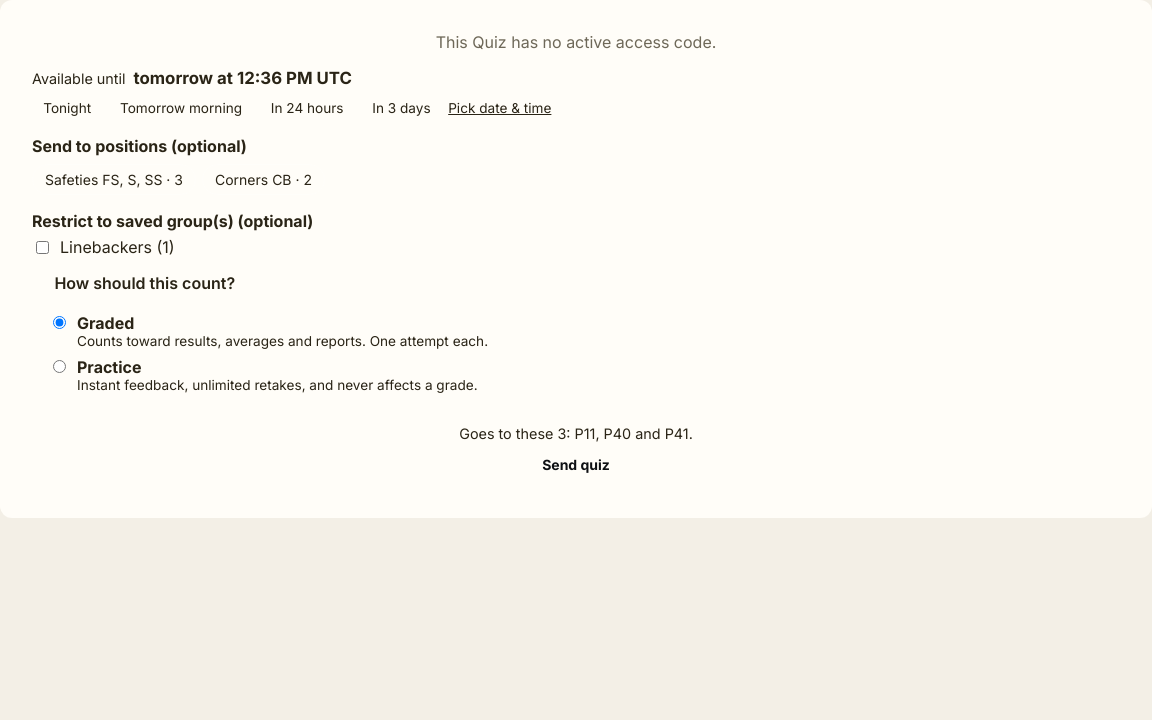
Test: Send - to positions › says plainly when the quiz roster already has players - the code reaches them too
Click the button "Safeties FS, S, SS · 3" at (114, 180), box [32,164,196,195]
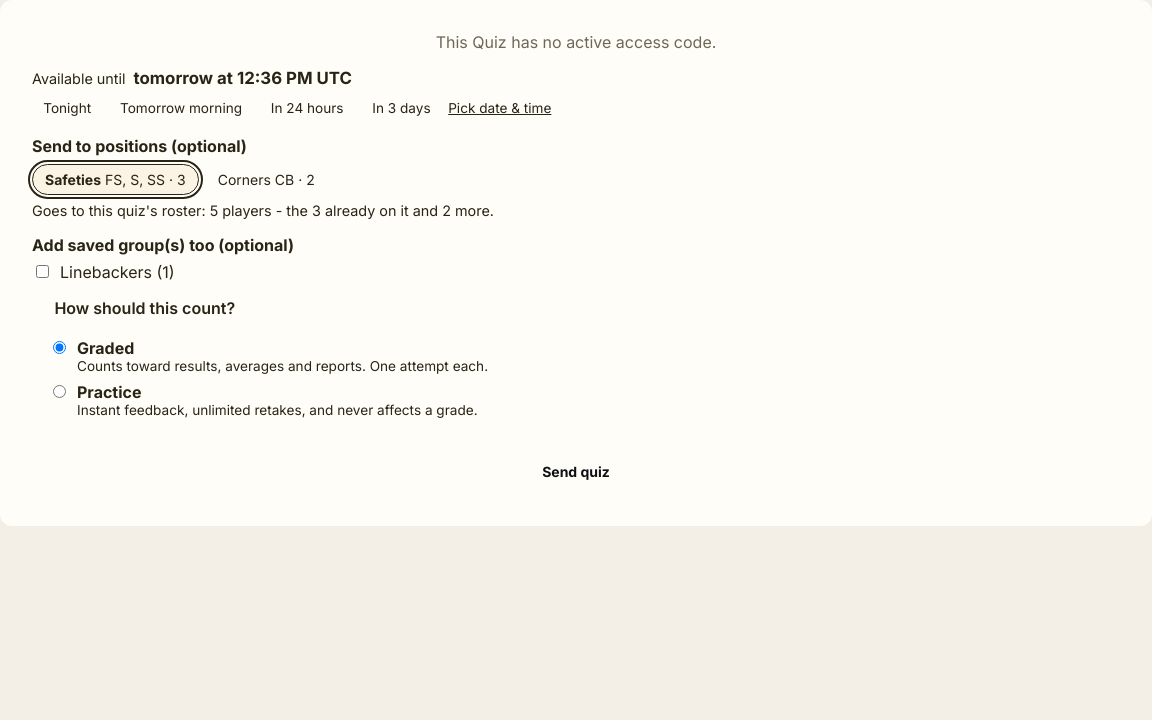
Expected: the message reads "Goes to this quiz's roster: 5 players - the 3 already on it and 2 more.", [32,202,494,219]
